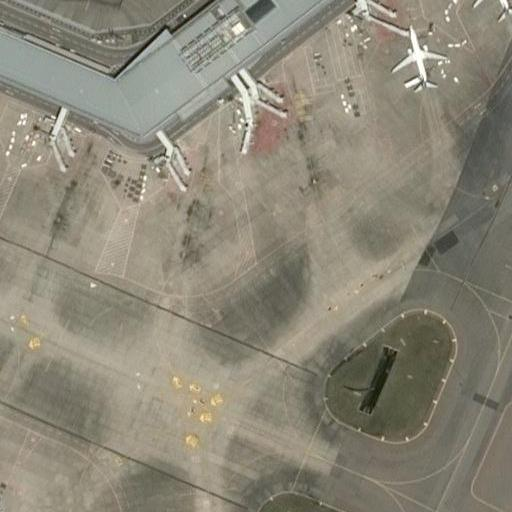Aircraft: (393, 22, 445, 91), (472, 0, 512, 19)
